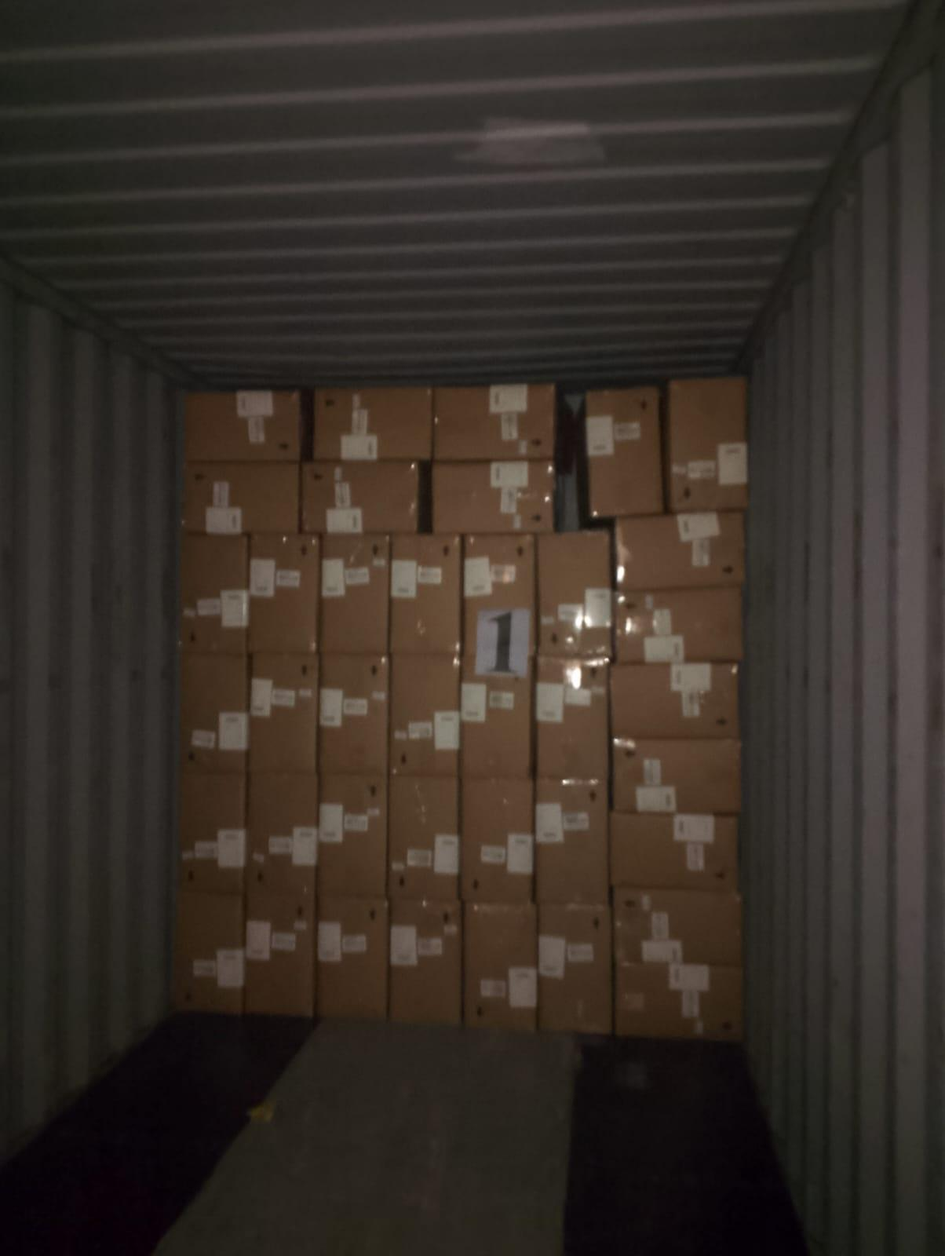carton: (663, 377, 748, 512), (583, 386, 662, 518), (615, 509, 743, 590), (614, 961, 743, 1040), (610, 812, 739, 890), (614, 586, 742, 664), (612, 737, 741, 814), (611, 662, 739, 739), (433, 382, 557, 461), (537, 530, 612, 659), (463, 903, 538, 1031), (538, 903, 611, 1033), (535, 778, 609, 905), (432, 458, 554, 534), (389, 897, 462, 1024), (535, 655, 609, 780), (312, 385, 432, 462), (614, 890, 744, 961), (460, 778, 533, 904), (459, 654, 532, 778), (387, 776, 459, 901), (303, 460, 423, 535), (171, 891, 244, 1014), (316, 894, 388, 1018), (244, 891, 316, 1015), (246, 772, 318, 896), (181, 460, 299, 535), (389, 533, 462, 654), (462, 534, 535, 655), (316, 773, 387, 897), (247, 532, 319, 654), (177, 533, 249, 654), (184, 389, 303, 462), (319, 653, 389, 776), (389, 653, 459, 776), (319, 534, 390, 655), (177, 654, 249, 772), (249, 652, 319, 773), (178, 772, 246, 893)
